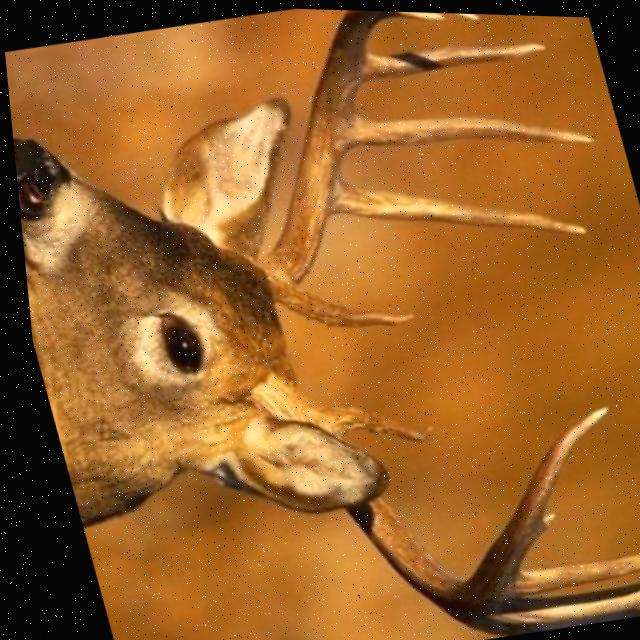L-F: (251, 8, 387, 297)
L-G1: (270, 284, 406, 327)
L-G2: (325, 178, 582, 232)
L-G3: (343, 114, 589, 147)
L-G4: (359, 39, 544, 80)
R-G1: (312, 404, 423, 439)
R-G3: (482, 575, 640, 622)
R-G4: (498, 543, 640, 590)
